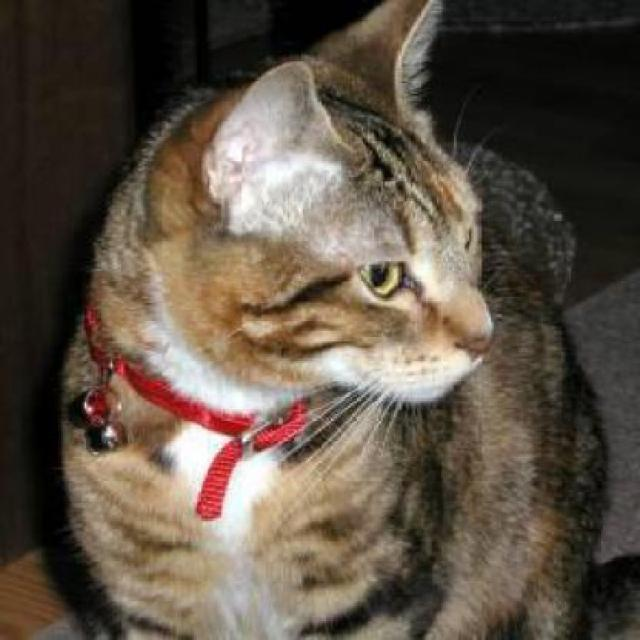cat: (60, 0, 607, 638)
